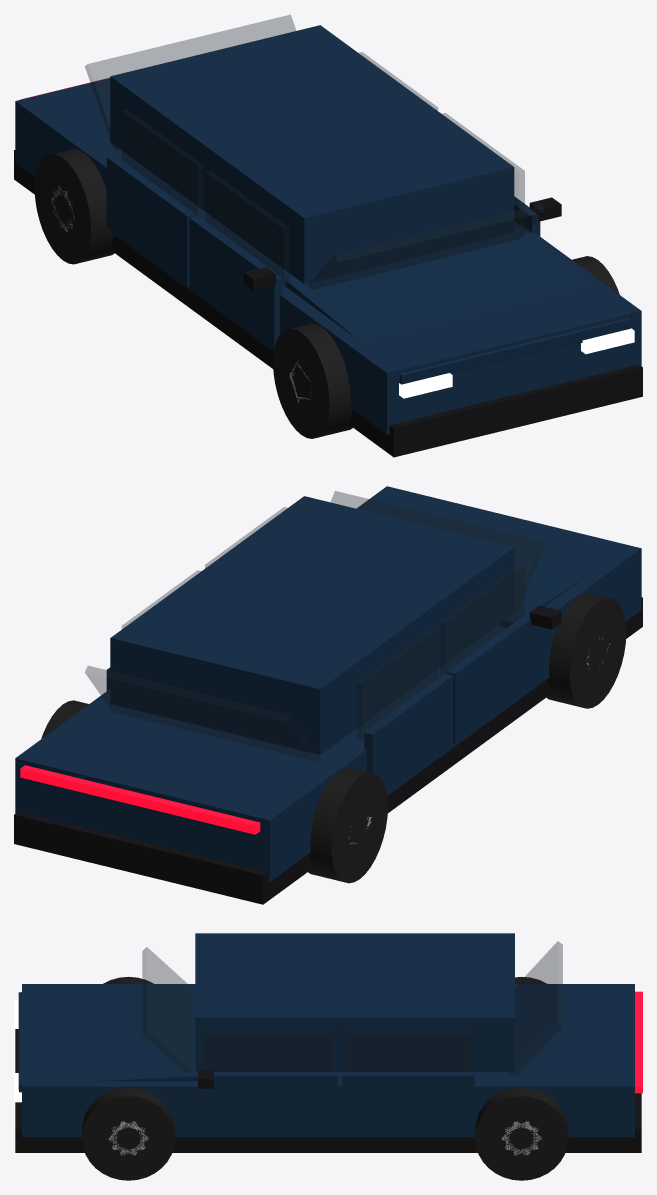
The model's file is sedan.glb.
The picture shows the model from 3 angles, top to bottom: view 1: azimuth 30°, elevation 25°; view 2: azimuth 150°, elevation 25°; view 3: azimuth 270°, elevation 25°; orthographic projection. The views are drawn at different scales.
Parts seen in each view (by area): view 1: Body, Hood, Door_F_L, Door_R_L, Wheel_FL, Wheel_RL, Door_F_R, Wheel_FR; view 2: Body, Door_F_L, Door_R_L, Wheel_RL, Wheel_FL, Hood, Wheel_RR; view 3: Body, Door_F_R, Door_R_R, Hood, Wheel_RR, Wheel_FR.
Boxes of the visible parts, x1,y1,x2,y2 form: Body: (14,15,642,457); Hood: (284,223,631,384); Door_F_L: (189,170,289,349); Door_R_L: (106,109,202,286); Wheel_FL: (273,323,352,438); Wheel_RL: (34,149,114,264); Door_F_R: (442,113,561,236); Wheel_FR: (572,256,619,294); Body: (14,486,642,904); Door_F_L: (440,564,561,744); Door_R_L: (357,628,453,794); Wheel_RL: (308,767,387,883); Wheel_FL: (546,593,626,708); Hood: (498,557,588,627); Wheel_RR: (41,700,88,738); Body: (14,933,642,1152); Door_F_R: (198,1031,338,1133); Door_R_R: (341,1031,474,1133); Hood: (18,984,197,1092); Wheel_RR: (475,1087,568,1180); Wheel_FR: (82,1087,175,1180).
Bounding box in the file's own units: 2.2 × 1.2 × 4.72.
